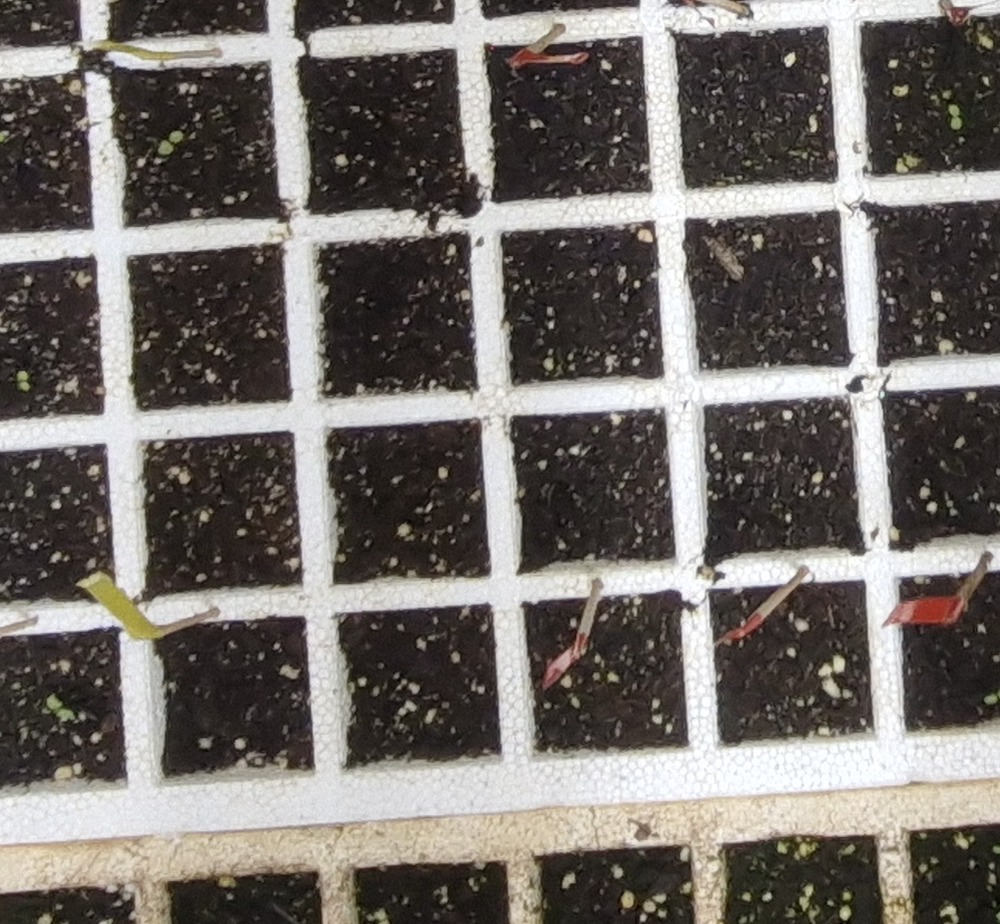Folha: (47, 693, 62, 708), (158, 141, 173, 155), (58, 709, 75, 719), (170, 132, 183, 143), (951, 117, 962, 129), (949, 105, 960, 116), (18, 381, 30, 391), (985, 695, 997, 704), (17, 371, 28, 380)
Germinacao: (47, 694, 75, 718), (158, 131, 183, 154), (949, 105, 962, 129), (17, 371, 31, 391), (984, 689, 1000, 705)
